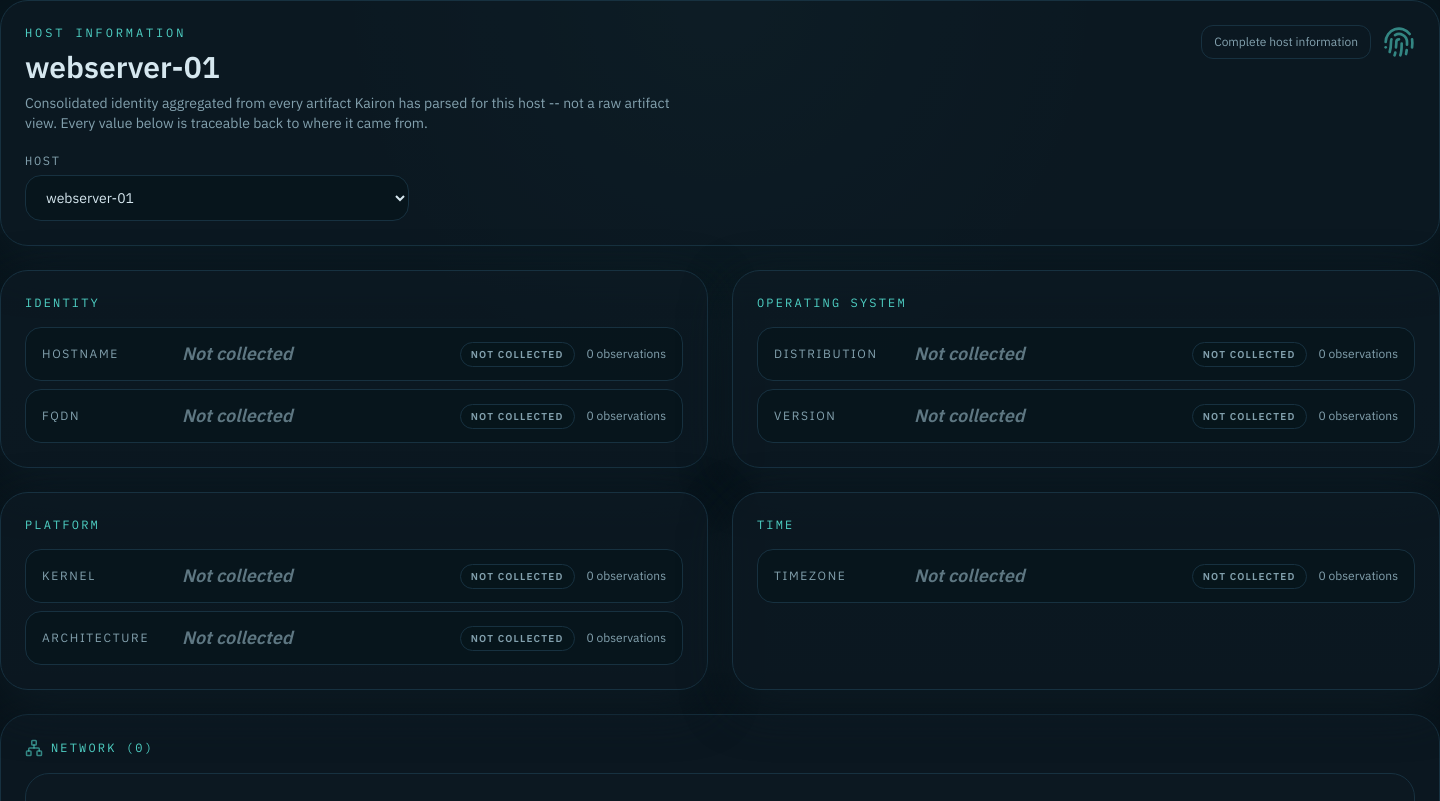
Test case: HostInformationPage › User Inventory › refreshes the inventory when the host changes and never merges users across hosts
The width and height of the screenshot is (1440, 801).
Select "db-02" in the dropdown with test id "host-selector" at (217, 198), box left=25, top=175, right=409, bottom=221
(page scrolled)
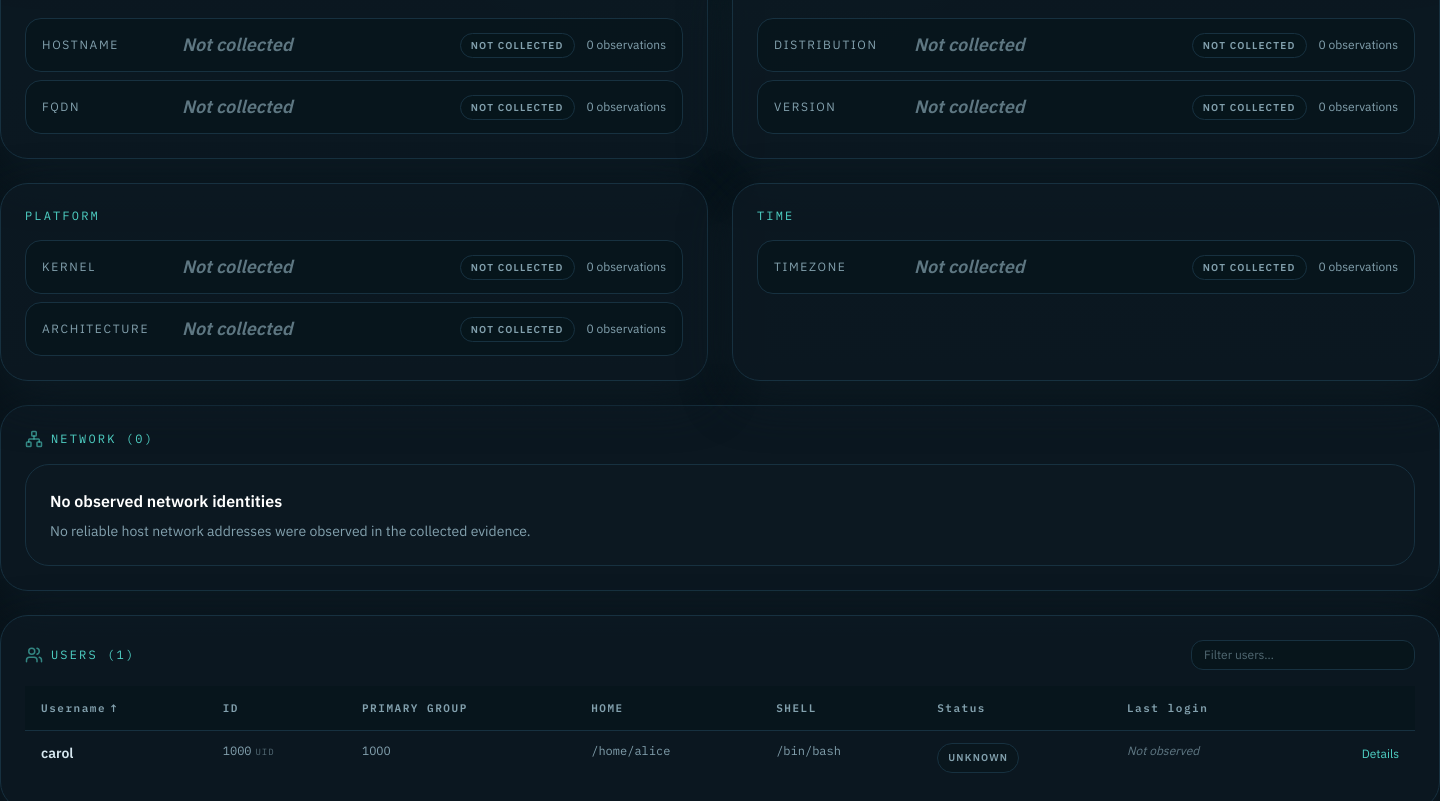
Now the row with test id "user-row" shows "carol", box left=41, top=744, right=74, bottom=762
